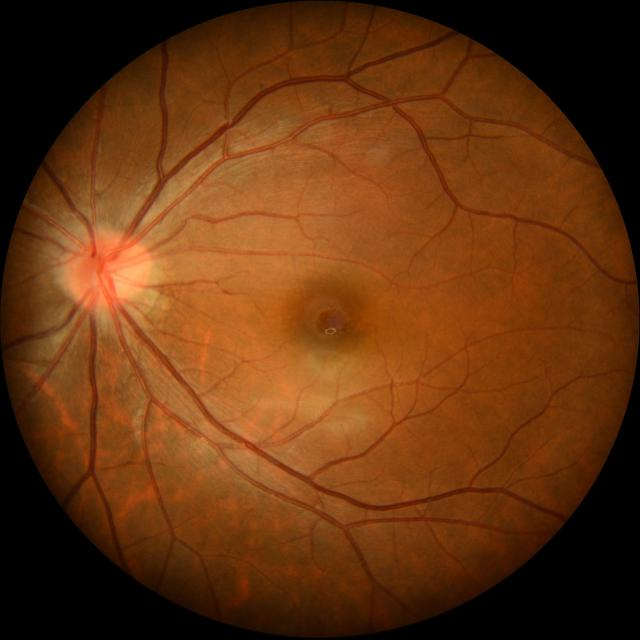OC: (98, 258, 120, 286)
OD: (66, 230, 146, 308)
